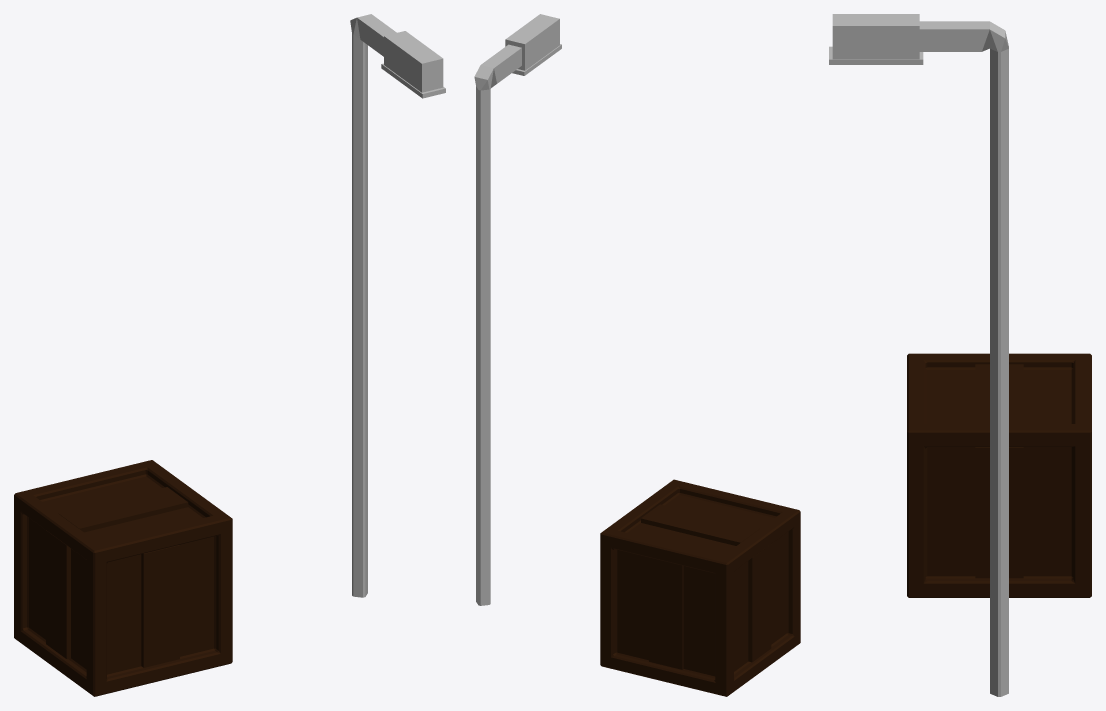
The model's file is enviroment-2.fbx.
The picture shows the model from 3 angles, left to right: view 1: azimuth 30°, elevation 25°; view 2: azimuth 150°, elevation 25°; view 3: azimuth 270°, elevation 25°; orthographic projection. The views are drawn at different scales.
Visible parts, largest first — view 1: Cube, Light; view 2: Cube, Light; view 3: Cube, Light.
Part boxes in pixels (x1,y1,x2,y2): Cube: (14, 460, 232, 696); Light: (350, 14, 445, 597); Cube: (600, 479, 800, 696); Light: (474, 14, 561, 605); Cube: (907, 353, 1091, 597); Light: (829, 14, 1008, 696).
Size of the model in its own units: 456 by 803 by 284.
